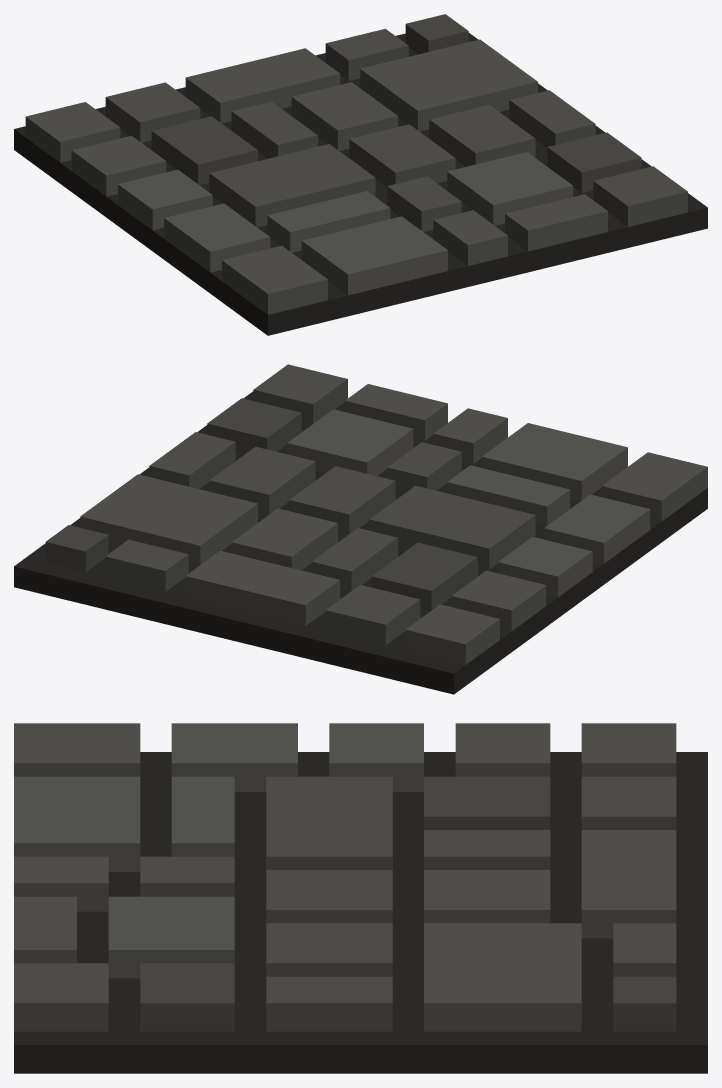
File: tile_sewers_EMPTY_alt1.glb
The picture shows the model from 3 angles, top to bottom: view 1: azimuth 30°, elevation 25°; view 2: azimuth 150°, elevation 25°; view 3: azimuth 270°, elevation 25°; orthographic projection. The views are drawn at different scales.
Parts seen in each view (by area): view 1: tile_sewers_EMPTY_alt1_v3; view 2: tile_sewers_EMPTY_alt1_v3; view 3: tile_sewers_EMPTY_alt1_v3.
Part boxes in pixels (x1,y1,x2,y2): tile_sewers_EMPTY_alt1_v3: (14,14,707,335); tile_sewers_EMPTY_alt1_v3: (14,364,707,694); tile_sewers_EMPTY_alt1_v3: (14,723,707,1073).
Bounding box in the file's own units: 1 × 0.0909 × 1.
Materials: 1 (1 with a texture image).
